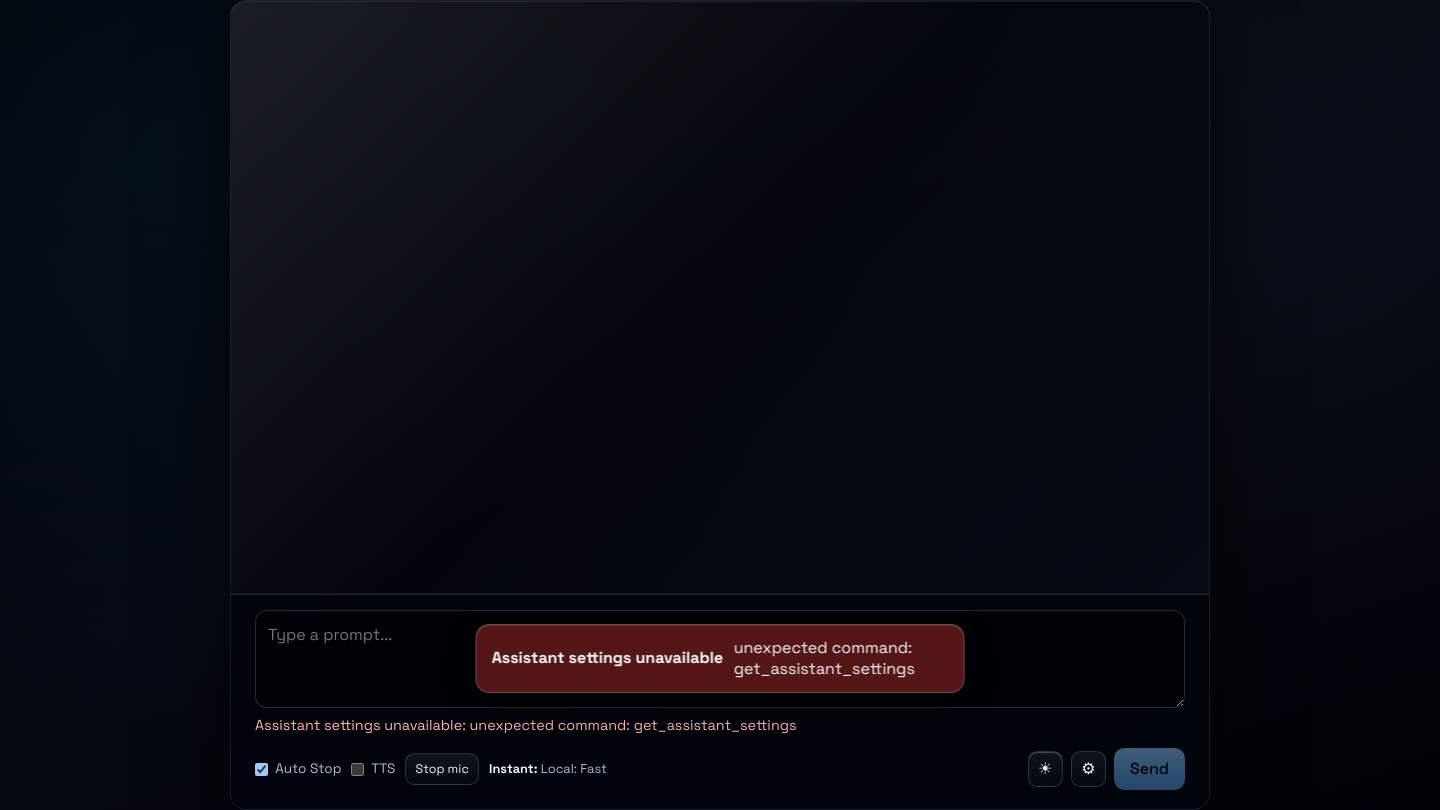
Test: App › surfaces requested profile failure when the previous runtime is restored
Click the button "⚙": click(1088, 769) [1071, 751, 1106, 787]
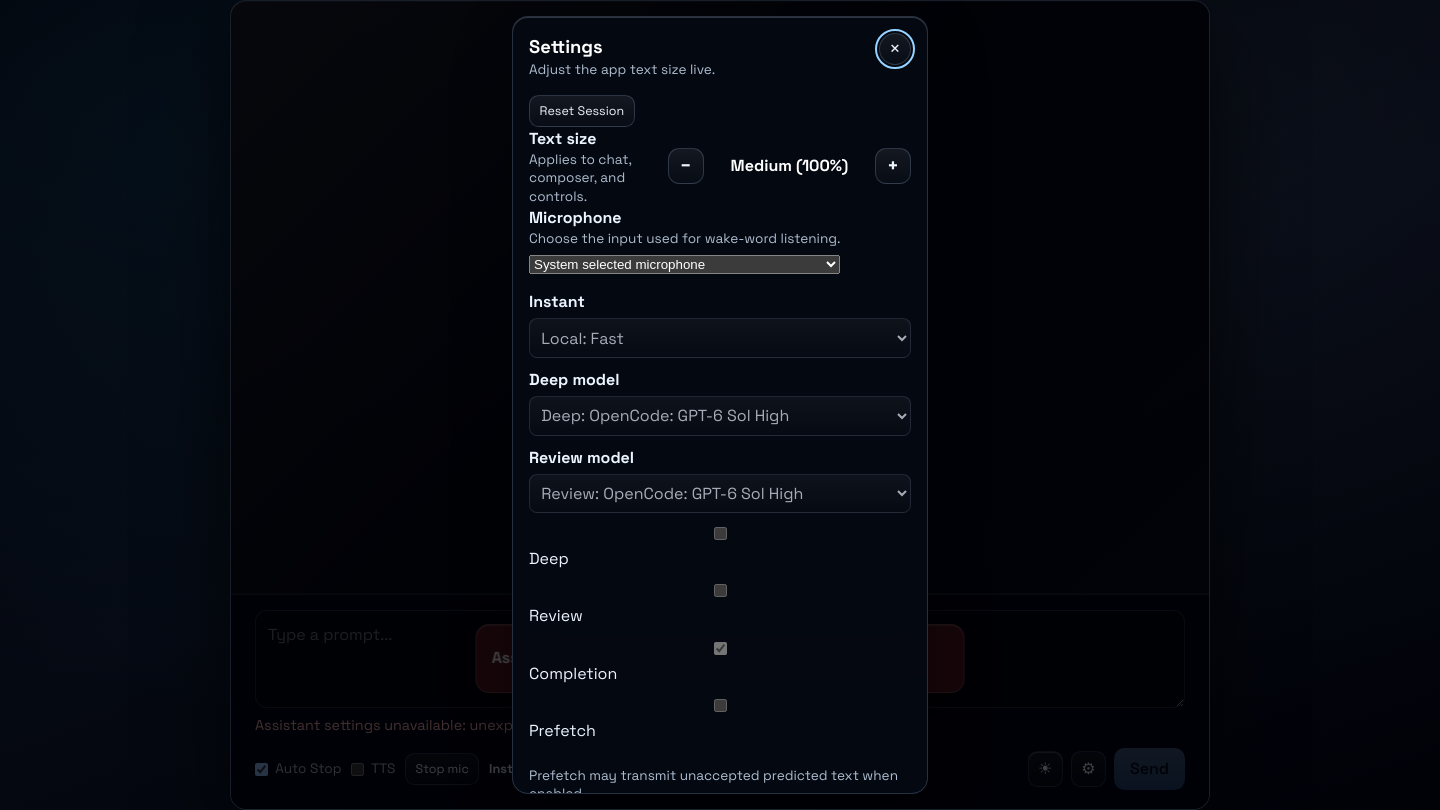
Select "Local: Quality" in the dropdown with id "assistantInstantSelect": (720, 338) [529, 318, 911, 358]
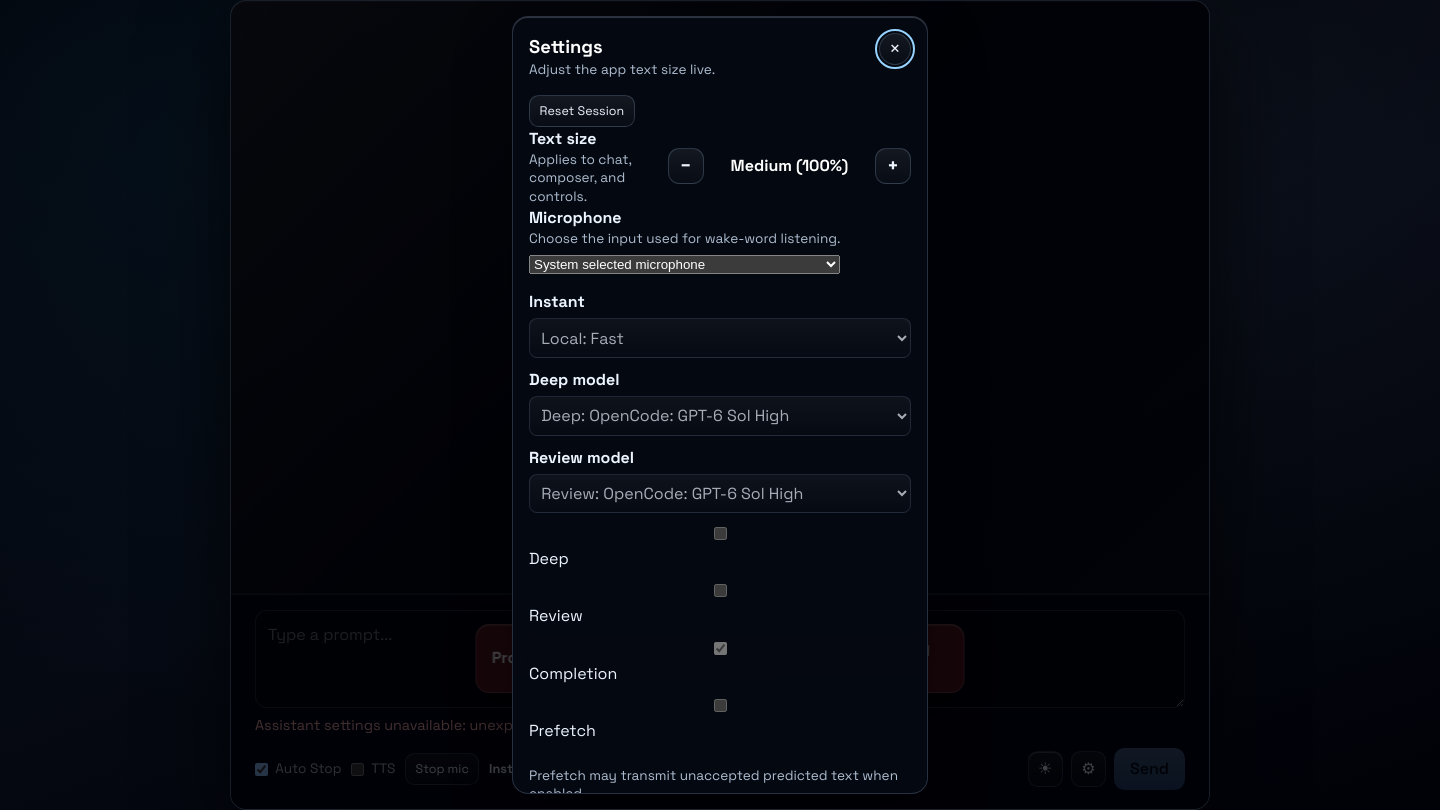
Expected: the text "failed to initialize requested quality profile: boom" is shown, [655, 637, 948, 680]
Expected: the text "Profile switch failed" is shown, [492, 646, 645, 670]
